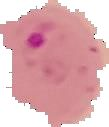parasitized: (22, 18, 75, 80)
